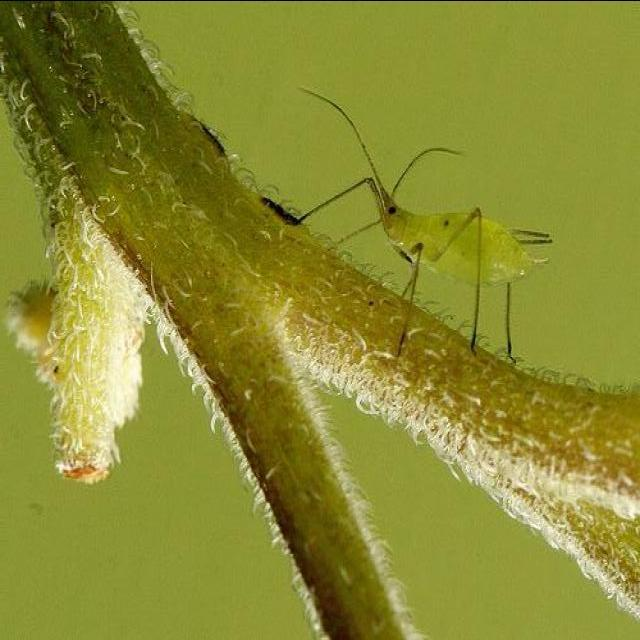aphid: (353, 191, 558, 337)
